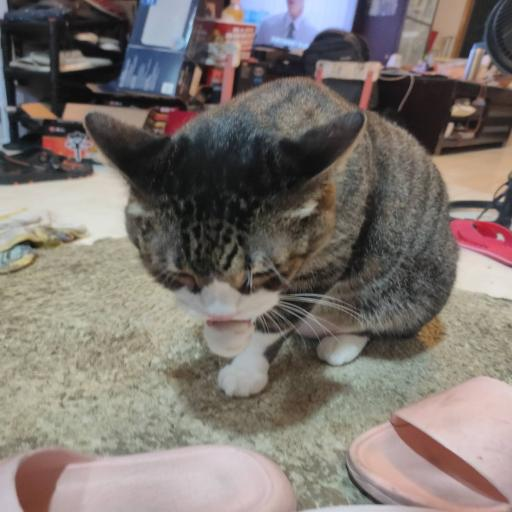cat: (128, 88, 457, 374)
